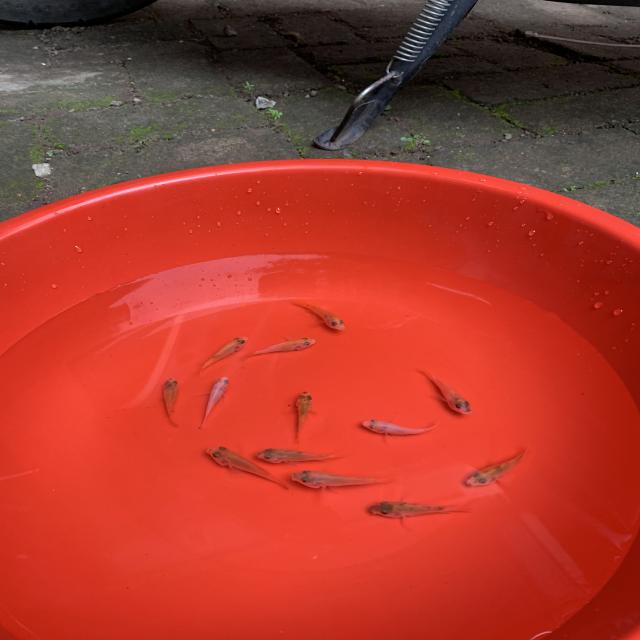nila: (198, 441, 297, 491), (462, 443, 540, 490), (411, 363, 476, 416), (275, 467, 393, 495), (190, 331, 250, 381), (282, 294, 352, 334), (197, 371, 238, 436), (358, 411, 454, 438), (356, 497, 470, 518), (251, 442, 352, 465), (242, 335, 321, 362), (284, 386, 317, 442), (158, 376, 185, 430)
